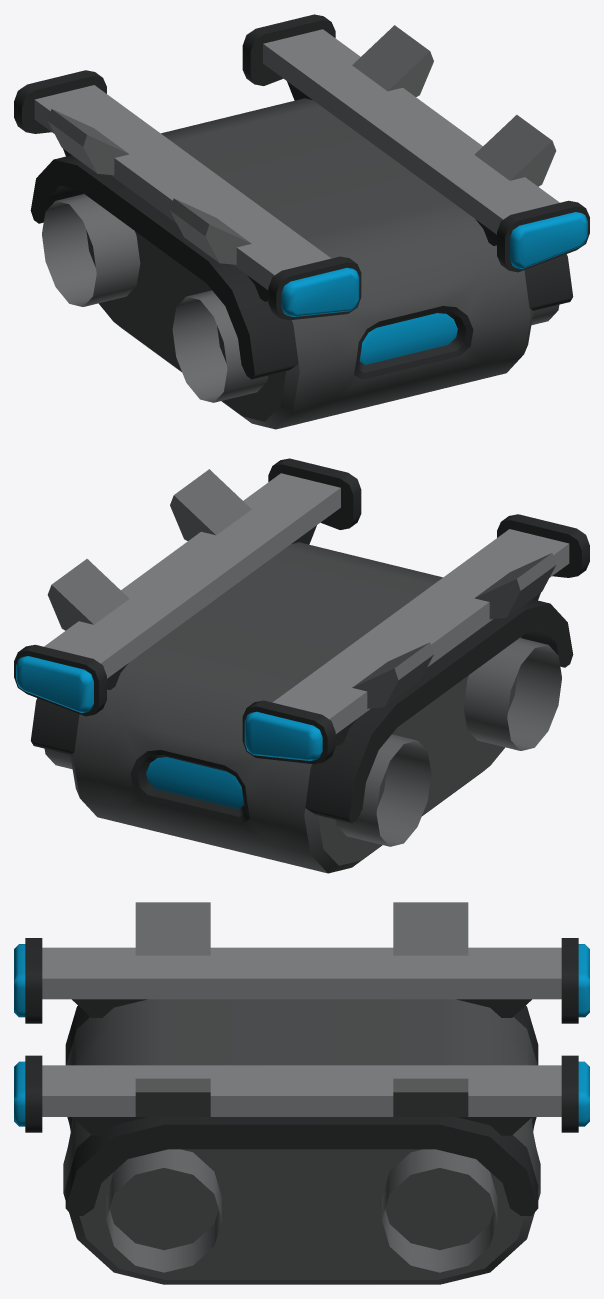
The model's file is Cargo_Drone_001.fbx.
3 views of the same model, one above another, from view 1: azimuth 30°, elevation 25°; view 2: azimuth 150°, elevation 25°; view 3: azimuth 270°, elevation 25° (orthographic). The views are drawn at different scales.
Visible parts, largest first — view 1: Cargo_Drone_001; view 2: Cargo_Drone_001; view 3: Cargo_Drone_001.
Part boxes in pixels (box(x1,y1,x2,y2)): Cargo_Drone_001: box(14, 14, 589, 429); Cargo_Drone_001: box(14, 458, 589, 873); Cargo_Drone_001: box(14, 902, 589, 1284).
Size of the model in its own units: 48.33 by 65.19 by 29.35.
